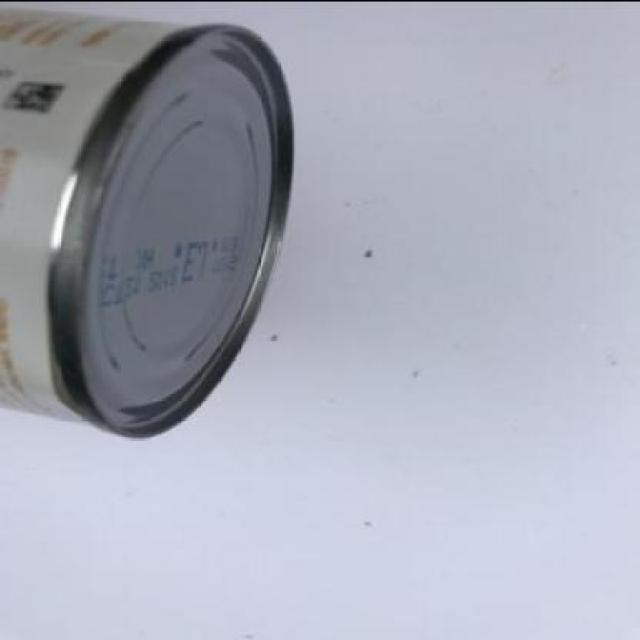METAL: (1, 1, 297, 438)
